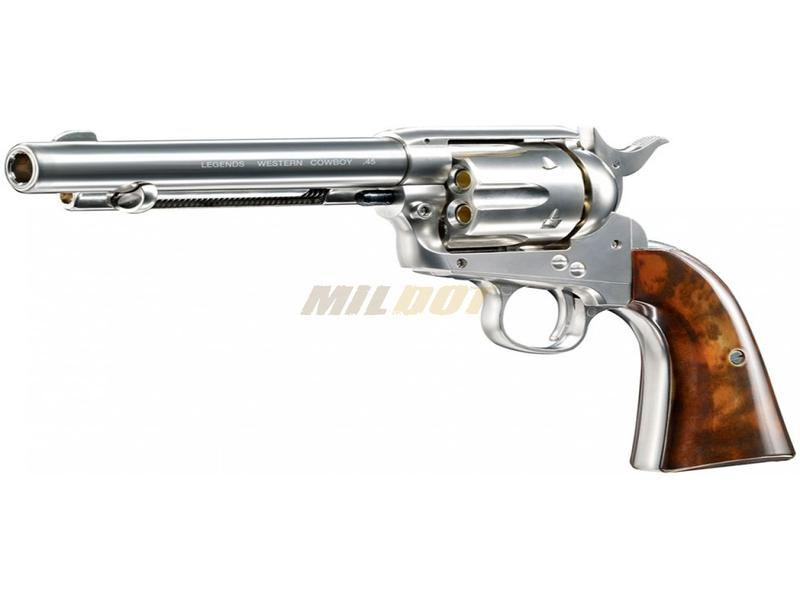Revolver: (5, 105, 756, 387)
